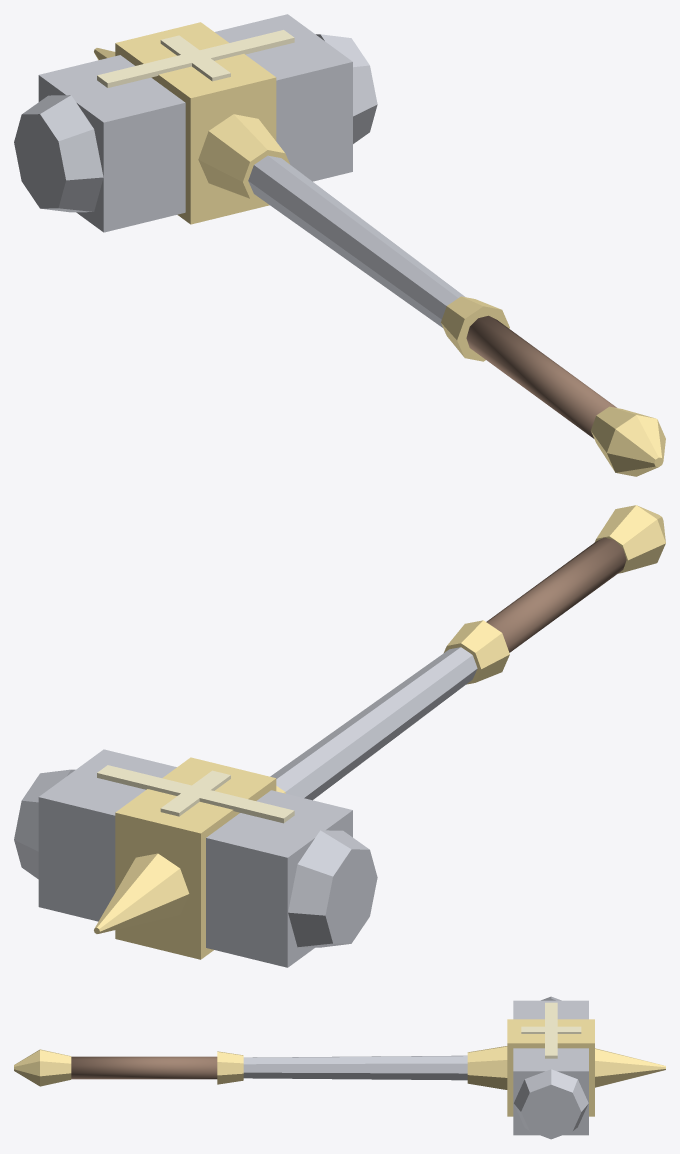
The model's file is Cleric_HolyHammer.fbx.
The picture shows the model from 3 angles, top to bottom: view 1: azimuth 30°, elevation 25°; view 2: azimuth 150°, elevation 25°; view 3: azimuth 270°, elevation 25°; orthographic projection. The views are drawn at different scales.
Parts seen in each view (by area): view 1: ClericHammer_Head, ClericHammer_GoldReliquary, ClericHammer_Grip, ClericHammer_HolyRune; view 2: ClericHammer_Head, ClericHammer_GoldReliquary, ClericHammer_Grip, ClericHammer_HolyRune; view 3: ClericHammer_Head, ClericHammer_GoldReliquary, ClericHammer_Grip, ClericHammer_HolyRune.
Part boxes in pixels (x1,y1,x2,y2): ClericHammer_Head: (14, 14, 464, 327); ClericHammer_GoldReliquary: (94, 22, 665, 476); ClericHammer_Grip: (466, 315, 616, 438); ClericHammer_HolyRune: (97, 30, 294, 87); ClericHammer_Head: (14, 647, 477, 967); ClericHammer_GoldReliquary: (94, 505, 665, 959); ClericHammer_Grip: (486, 537, 626, 652); ClericHammer_HolyRune: (97, 765, 294, 823); ClericHammer_Head: (243, 996, 588, 1139); ClericHammer_GoldReliquary: (14, 1019, 665, 1116); ClericHammer_Grip: (71, 1056, 217, 1079); ClericHammer_HolyRune: (521, 1002, 581, 1058).
Size of the model in its own units: 0.4 by 0.164 by 1.25.
